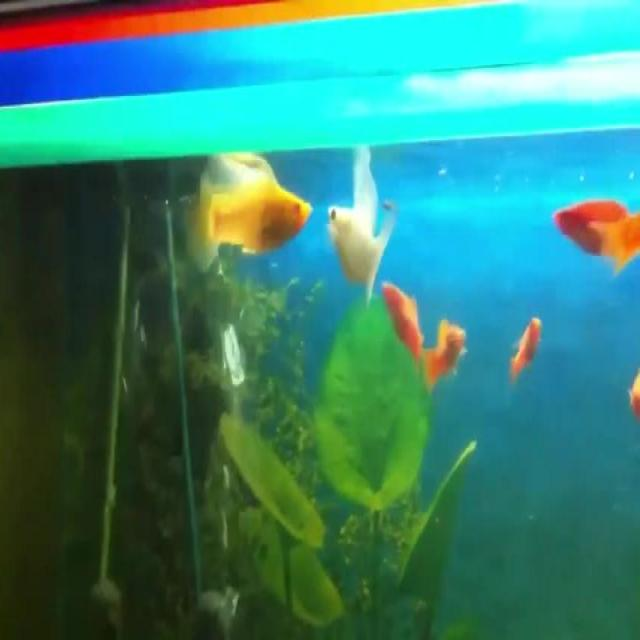PlatyFish: (171, 125, 312, 292), (323, 173, 393, 322), (543, 176, 640, 279), (378, 259, 428, 385), (416, 297, 471, 407)
